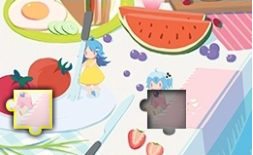gap: (140, 89, 186, 134)
